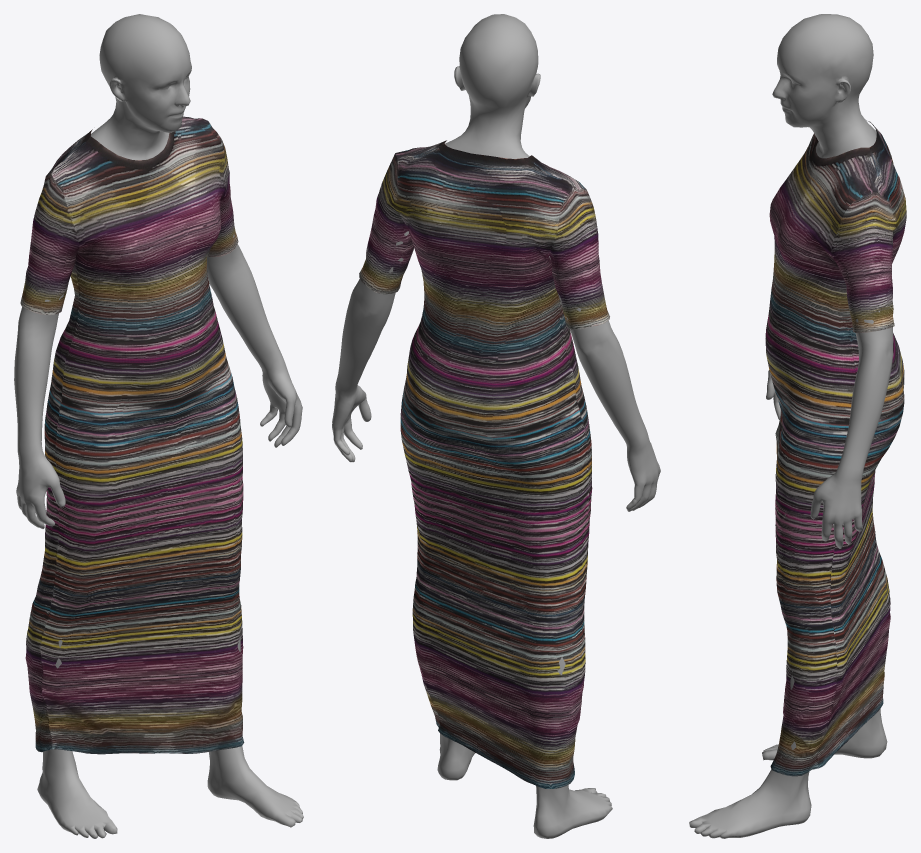
Rendered from Women_missoni_dress.glb.
3 renders of one model, left to right at view 1: azimuth 30°, elevation 25°; view 2: azimuth 150°, elevation 25°; view 3: azimuth 270°, elevation 25°, orthographic.
Parts seen in each view (by area): view 1: garment, avatar; view 2: garment, avatar; view 3: garment, avatar.
Part boxes in pixels (x1,y1,x2,y2): garment: (20, 116, 244, 754); avatar: (14, 14, 303, 838); garment: (359, 140, 609, 788); avatar: (332, 14, 660, 838); garment: (765, 120, 906, 776); avatar: (689, 14, 893, 838).
Size of the model in its own units: 0.7059 by 1.77 by 0.4496.
Materials: 3 (1 with a texture image).
